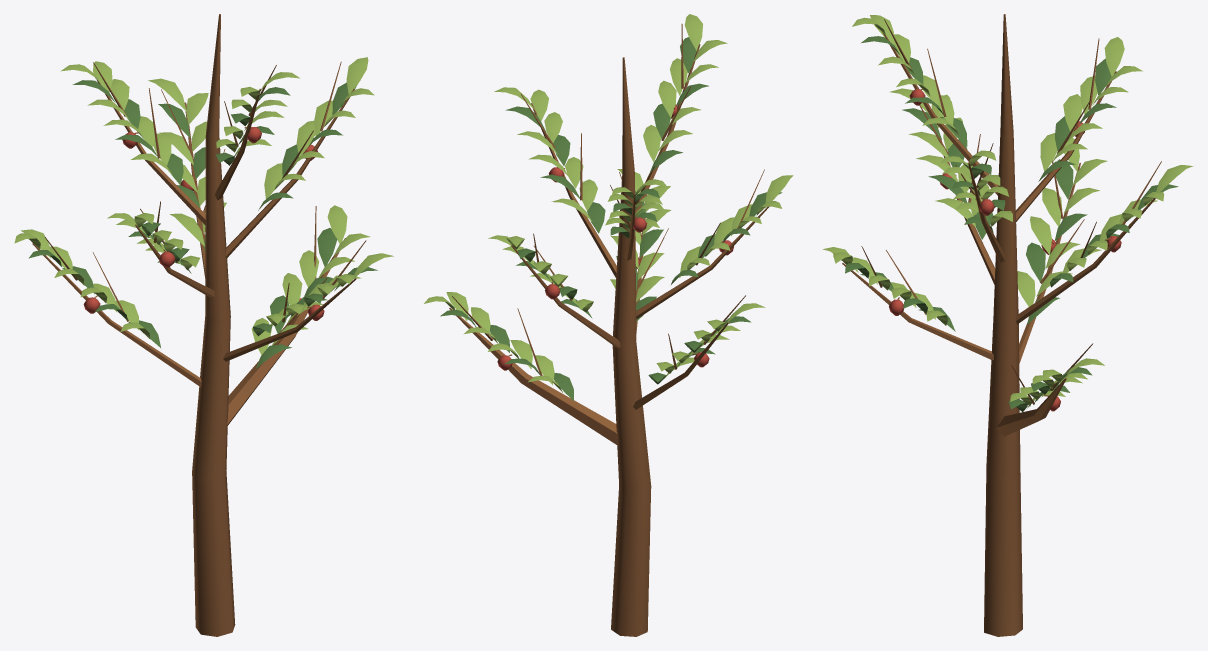
The model's file is crop_apple_tree_mature.glb.
3 renders of one model, left to right at view 1: azimuth 30°, elevation 25°; view 2: azimuth 150°, elevation 25°; view 3: azimuth 270°, elevation 25°, orthographic. The views are drawn at different scales.
Parts seen in each view (by area): view 1: apple_b_0, apple_leaf_0_1, apple_leaf_0_0, apple_fruit_0_0; view 2: apple_b_0, apple_leaf_0_1, apple_leaf_0_0, apple_fruit_0_0; view 3: apple_b_0, apple_leaf_0_1, apple_leaf_0_0, apple_fruit_0_0.
Boxes of the visible parts, bbox=[...] form: apple_b_0: bbox=[32, 14, 366, 636]; apple_leaf_0_1: bbox=[14, 57, 393, 354]; apple_leaf_0_0: bbox=[28, 80, 377, 369]; apple_fruit_0_0: bbox=[83, 127, 324, 320]; apple_b_0: bbox=[449, 24, 769, 636]; apple_leaf_0_1: bbox=[424, 14, 793, 392]; apple_leaf_0_0: bbox=[440, 37, 782, 401]; apple_fruit_0_0: bbox=[497, 104, 733, 370]; apple_b_0: bbox=[842, 14, 1161, 636]; apple_leaf_0_1: bbox=[823, 15, 1193, 408]; apple_leaf_0_0: bbox=[845, 36, 1178, 412]; apple_fruit_0_0: bbox=[889, 89, 1121, 411].
Bounding box in the file's own units: 1.97 × 3.3 × 1.79.
